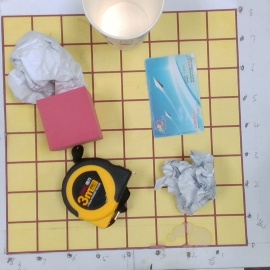card: (145, 54, 205, 138)
cup: (80, 1, 164, 49)
